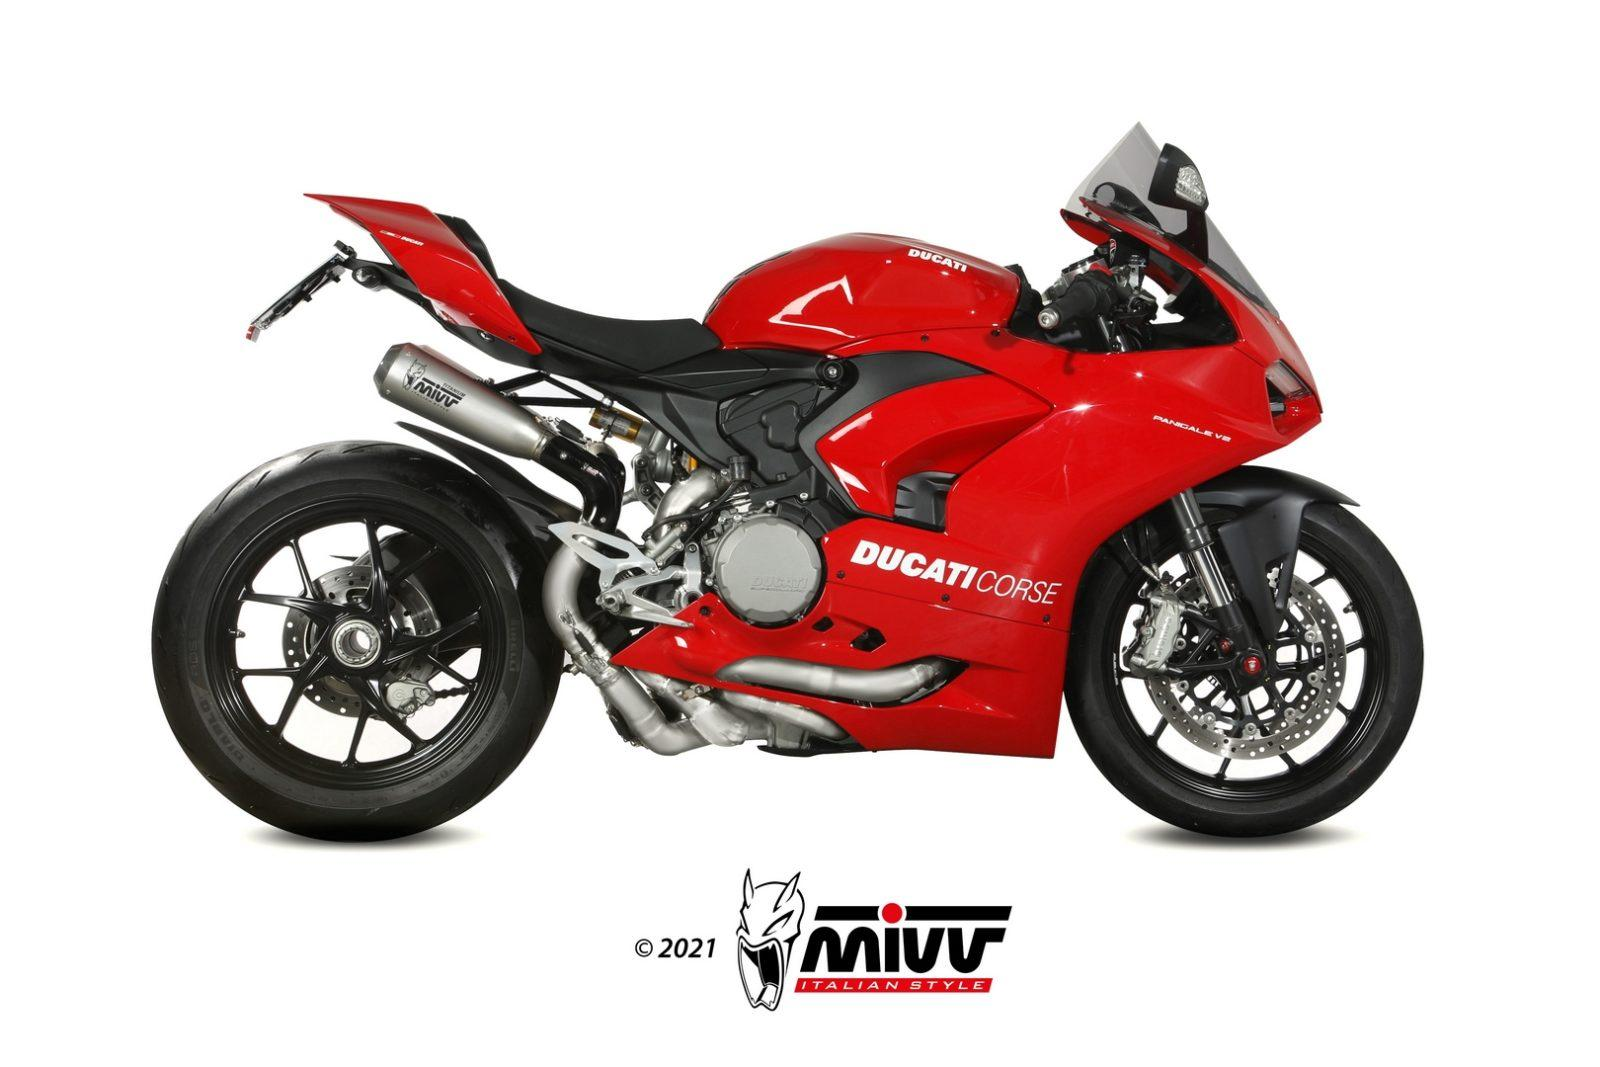engine-chasis: (550, 351, 1069, 760), (588, 405, 699, 485)
exhaust: (542, 542, 863, 756), (374, 342, 626, 535), (717, 655, 969, 707)
frontside: (820, 121, 1361, 697)
handlebar: (1004, 233, 1237, 352), (1146, 142, 1210, 267)
motorbike: (151, 124, 1425, 838), (151, 124, 1425, 837)
rearside: (245, 193, 848, 525), (393, 420, 581, 545), (621, 453, 664, 516)
seat: (498, 279, 720, 372), (433, 212, 498, 285)
tank: (702, 232, 1020, 351)
watermark: (571, 843, 1039, 1029)
wheel: (151, 439, 565, 842), (1064, 501, 1424, 837)
